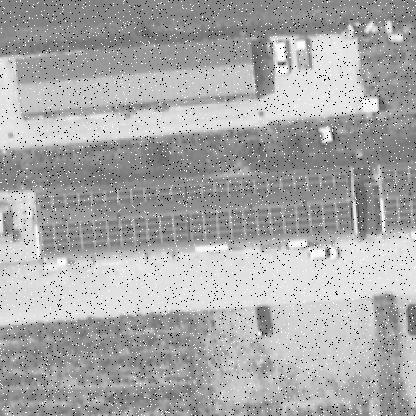solar-pv-panel: (193, 200, 351, 240), (42, 214, 188, 253), (190, 172, 348, 199), (41, 187, 185, 210), (385, 197, 416, 225), (381, 168, 416, 182)
